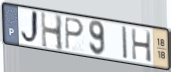9: (87, 19, 106, 58)
H: (40, 10, 65, 53), (130, 27, 153, 63)
I: (121, 25, 129, 62)
J: (20, 9, 41, 47)
P: (64, 16, 86, 51)
